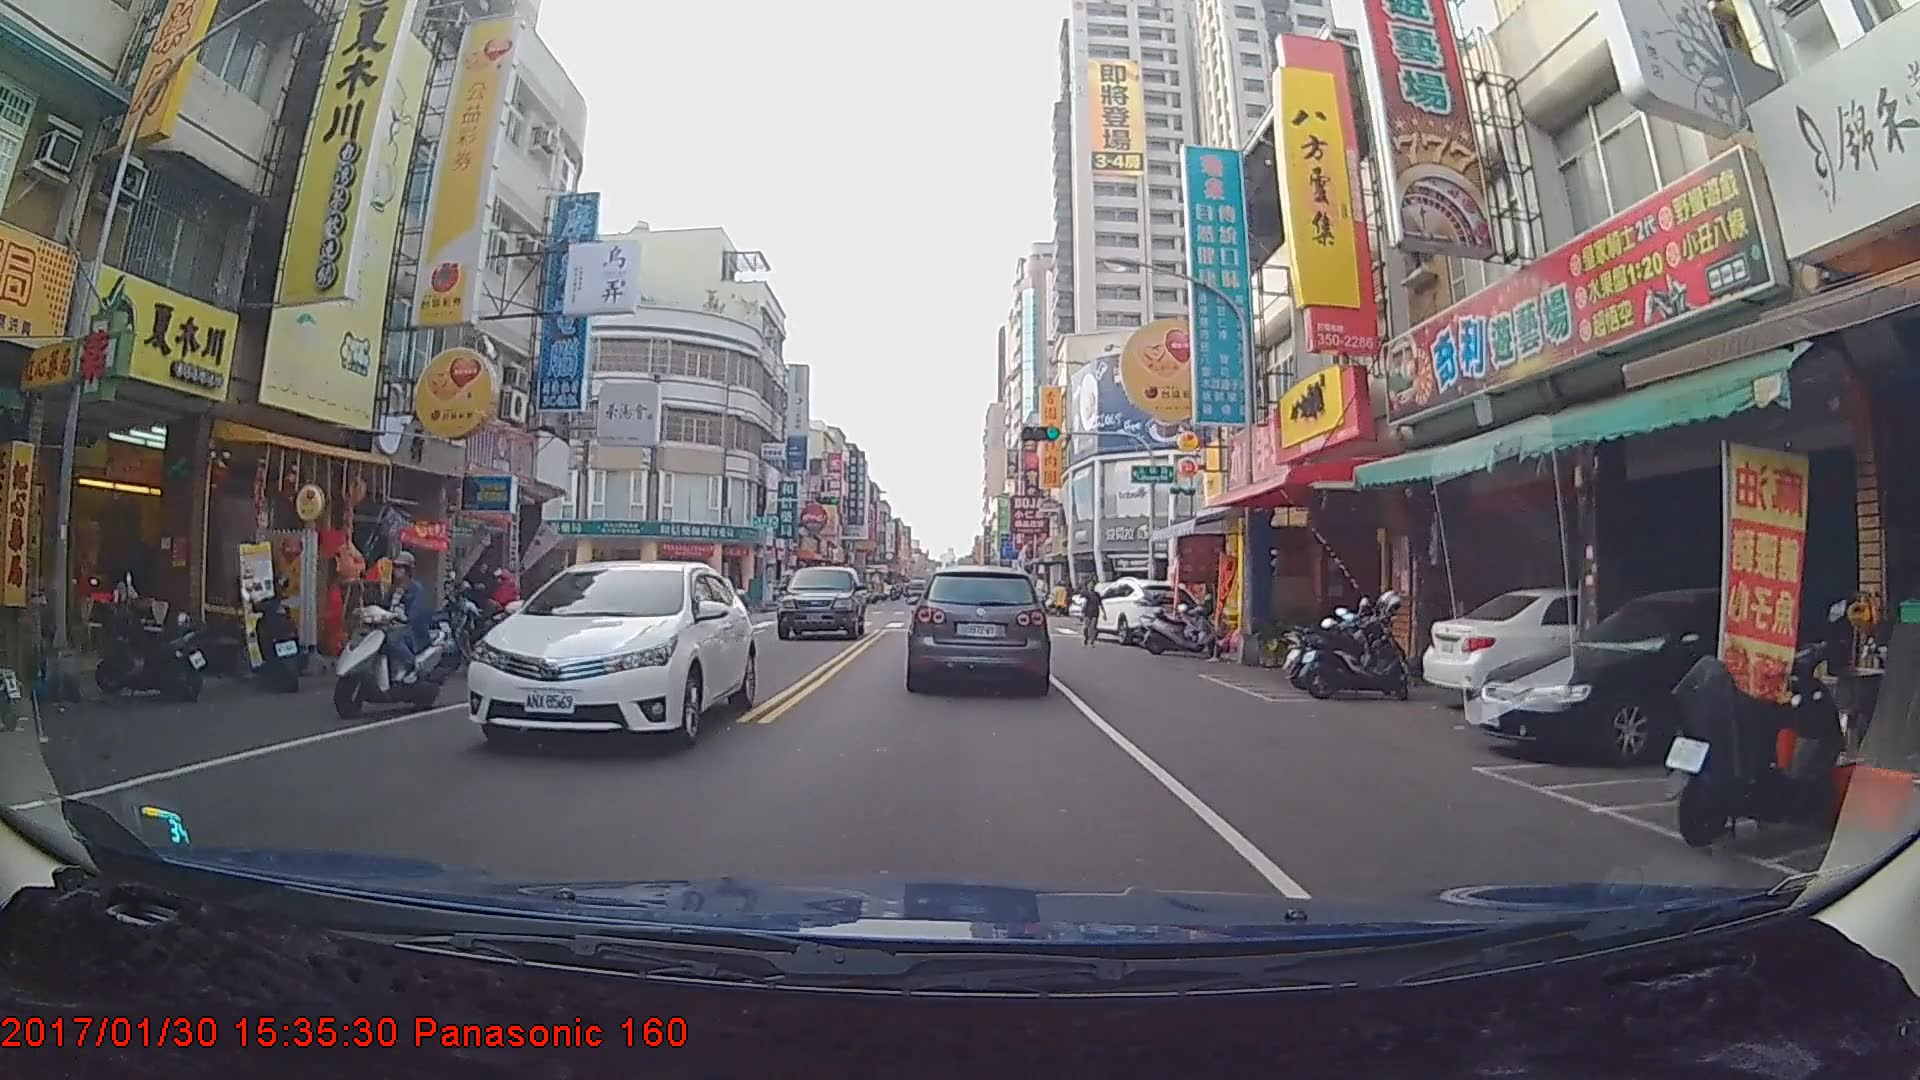pedestrian: (1080, 580, 1104, 651)
rider: (323, 555, 452, 725)
vehicle: (1472, 581, 1874, 767), (460, 558, 755, 754), (906, 564, 1048, 692), (1080, 575, 1205, 643), (777, 565, 866, 641), (904, 577, 929, 604)
